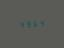four: (18, 20, 24, 28), (39, 19, 45, 27)
nine: (25, 20, 31, 28)
six: (32, 19, 38, 27)
